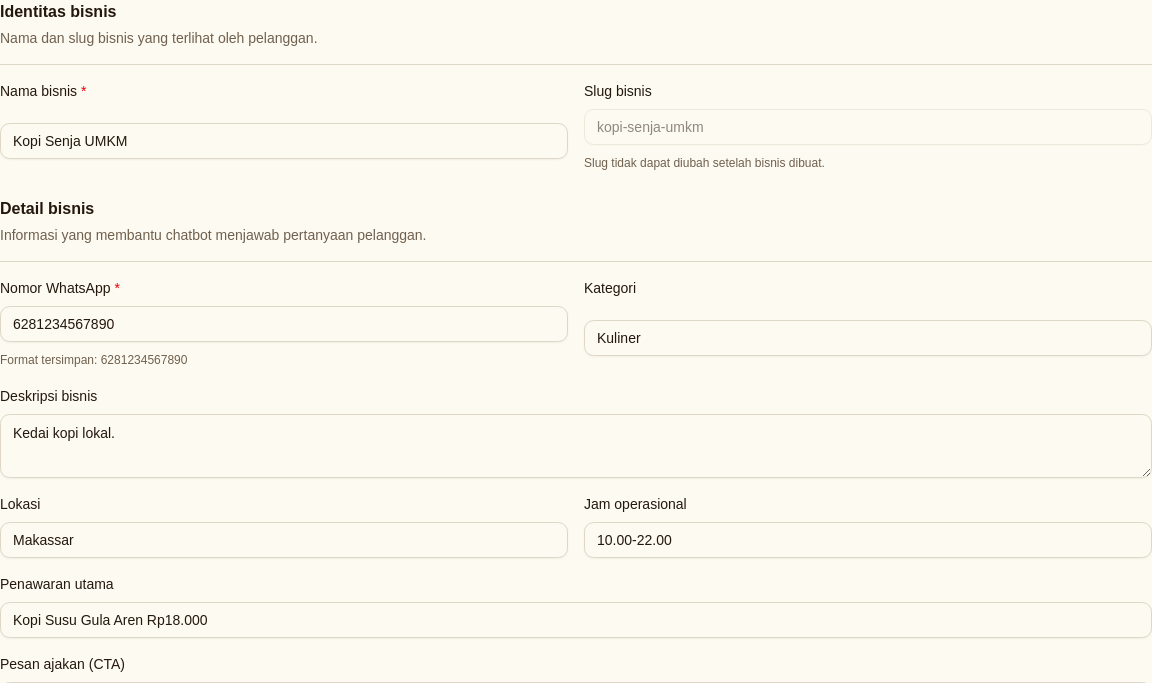
it: BusinessProfileForm — update mode › shows canonical phone hint as user types a valid number
This screenshot has width=1152, height=683.
Clear the field labelled "Nomor WhatsApp*". click: x=284, y=324
box: [0,306,568,342]
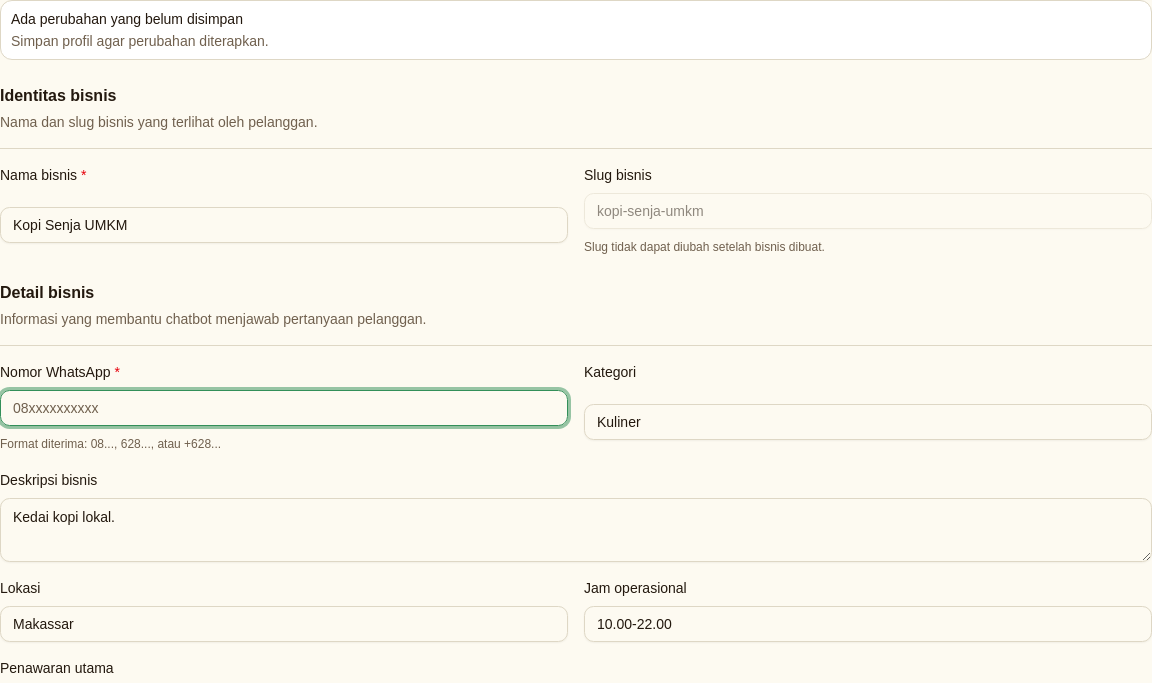
Type "081234567890" into the field labelled "Nomor WhatsApp*". click: x=284, y=408
box: [0,390,568,426]
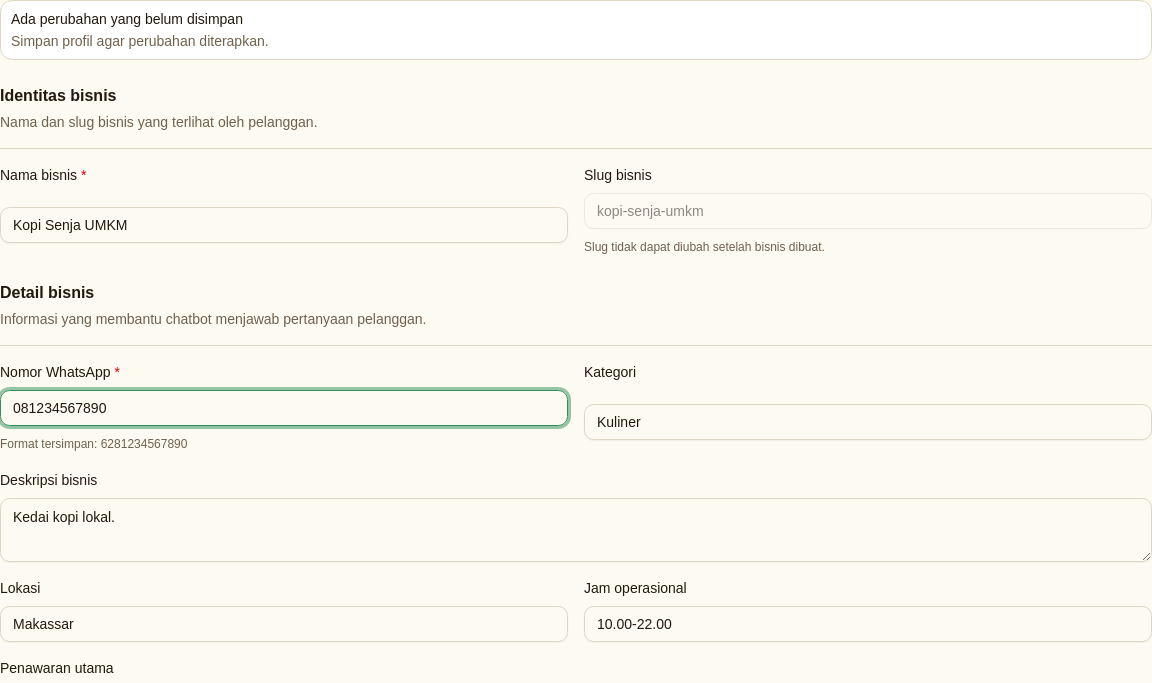
expect the text "Format tersimpan: 6281234567890" is shown: met, box [0,437,188,451]
